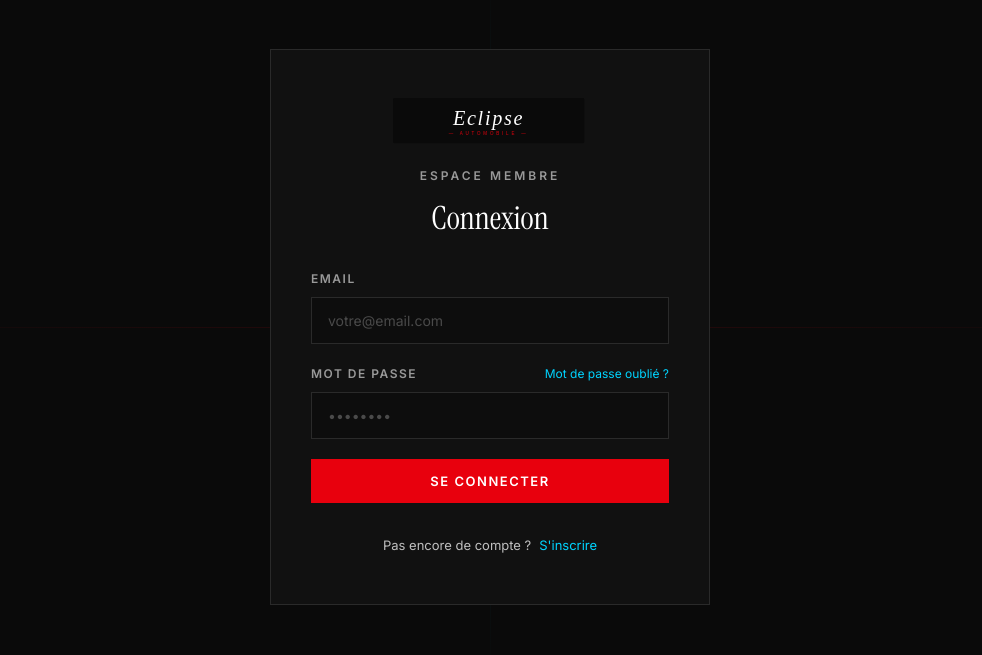
Login — formulaire › affiche une erreur si login échoue
This screenshot has width=982, height=655.
Type "x@x.com" into the field labelled "Email".
click(490, 320); type("x@x.com")  # box [311,297,669,344]
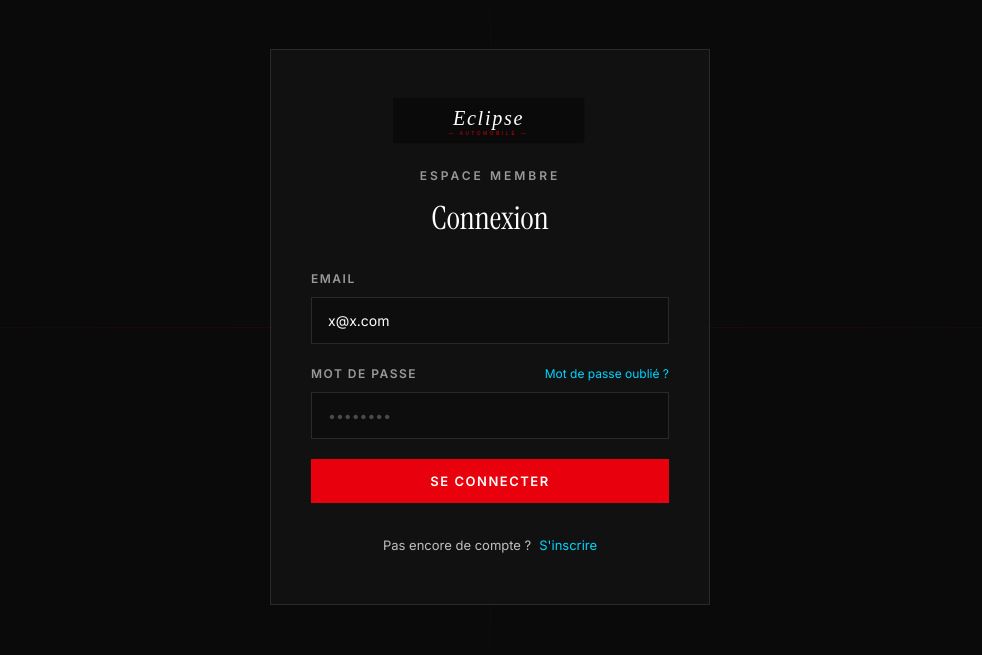
Type "wrong" into the password field labelled "Mot de passe".
click(490, 416); type("wrong")  # box [311,392,669,439]
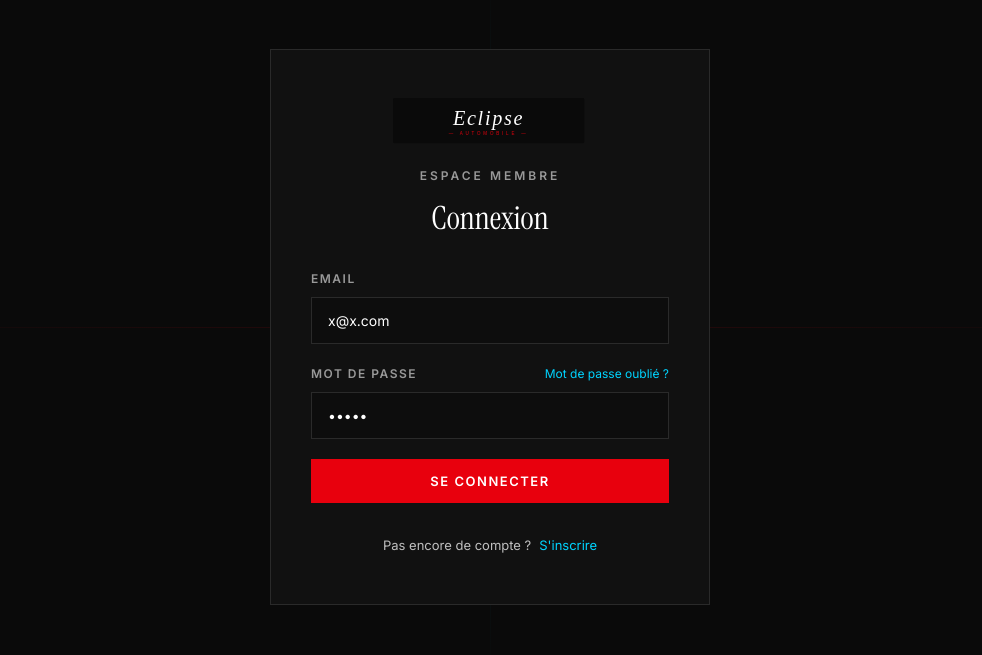
Submit the form "Email Mot de passe Mot de passe oublié ? Se connecter", box [311,269,669,503]
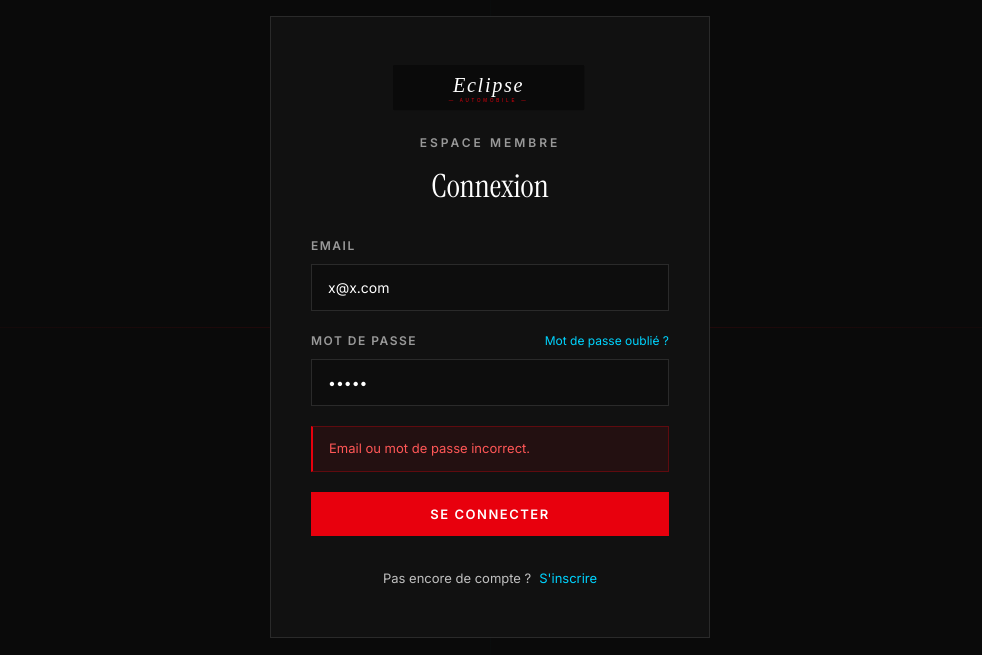
Expected: the message shows "Email ou mot de passe incorrect", [329,440,530,456]
